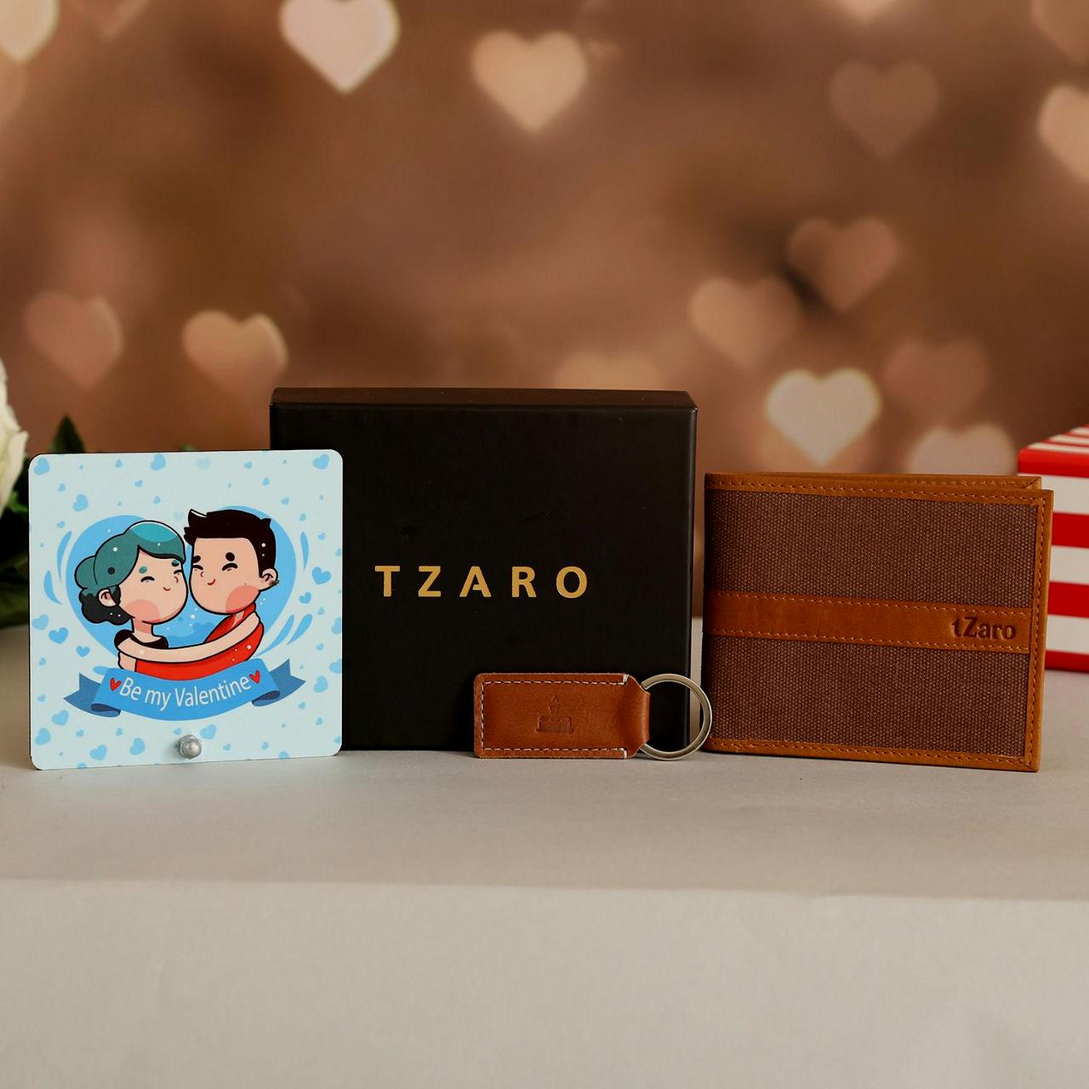wallet: (686, 456, 1089, 747)
